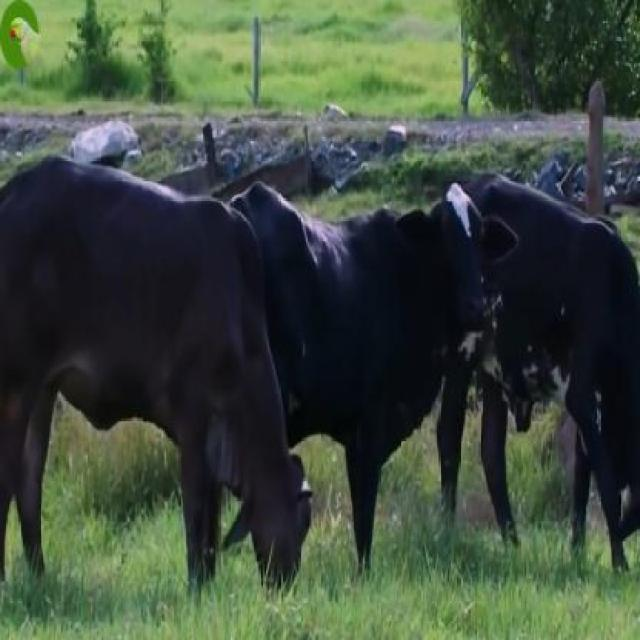Cow: (2, 159, 310, 603), (311, 183, 514, 575)
